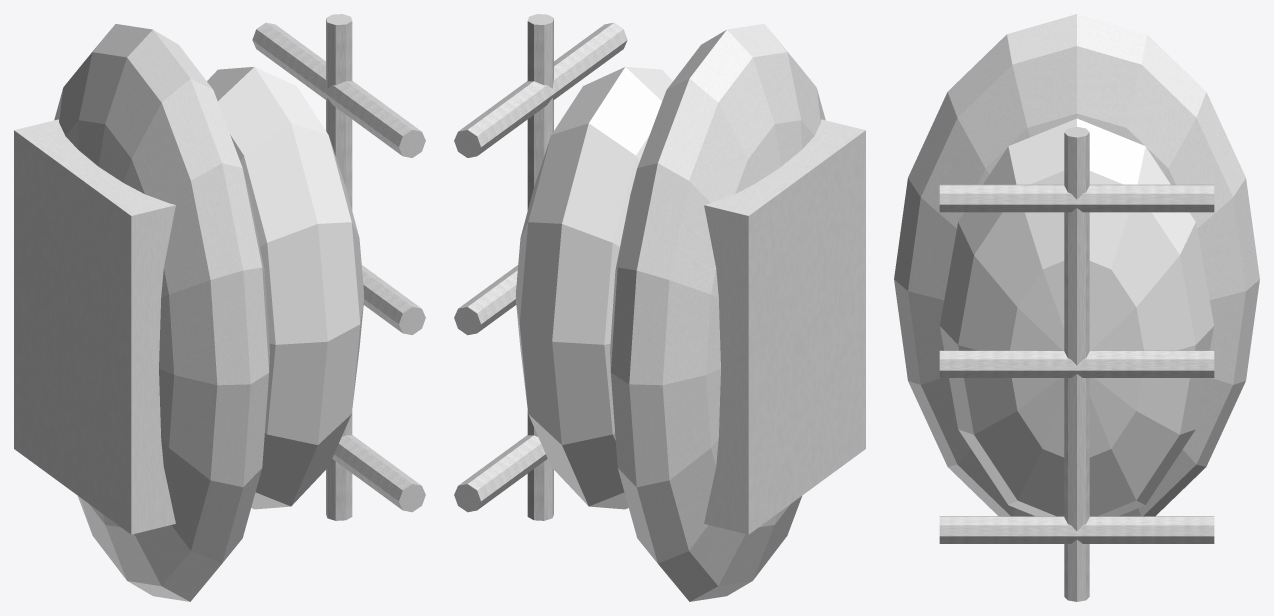
The model's file is armoredbulkheadlight.obj.
3 views of the same model, side by side, from view 1: azimuth 30°, elevation 25°; view 2: azimuth 150°, elevation 25°; view 3: azimuth 270°, elevation 25° (orthographic). The views are drawn at different scales.
Visible parts, largest first — view 1: Metal, Base, Light0, Trim; view 2: Metal, Base, Light0, Trim; view 3: Light0, Metal, Trim.
Part boxes in pixels (<box>): Metal: <box>54,24,269,601</box>; Base: <box>14,119,175,534</box>; Light0: <box>207,66,363,509</box>; Trim: <box>252,14,425,520</box>; Metal: <box>610,24,825,601</box>; Base: <box>704,119,865,534</box>; Light0: <box>516,66,672,509</box>; Trim: <box>454,14,627,520</box>; Light0: <box>939,118,1214,516</box>; Metal: <box>894,14,1259,516</box>; Trim: <box>939,127,1214,601</box>.
Bounding box in the file's own units: 0.331 × 0.64 × 0.4.
